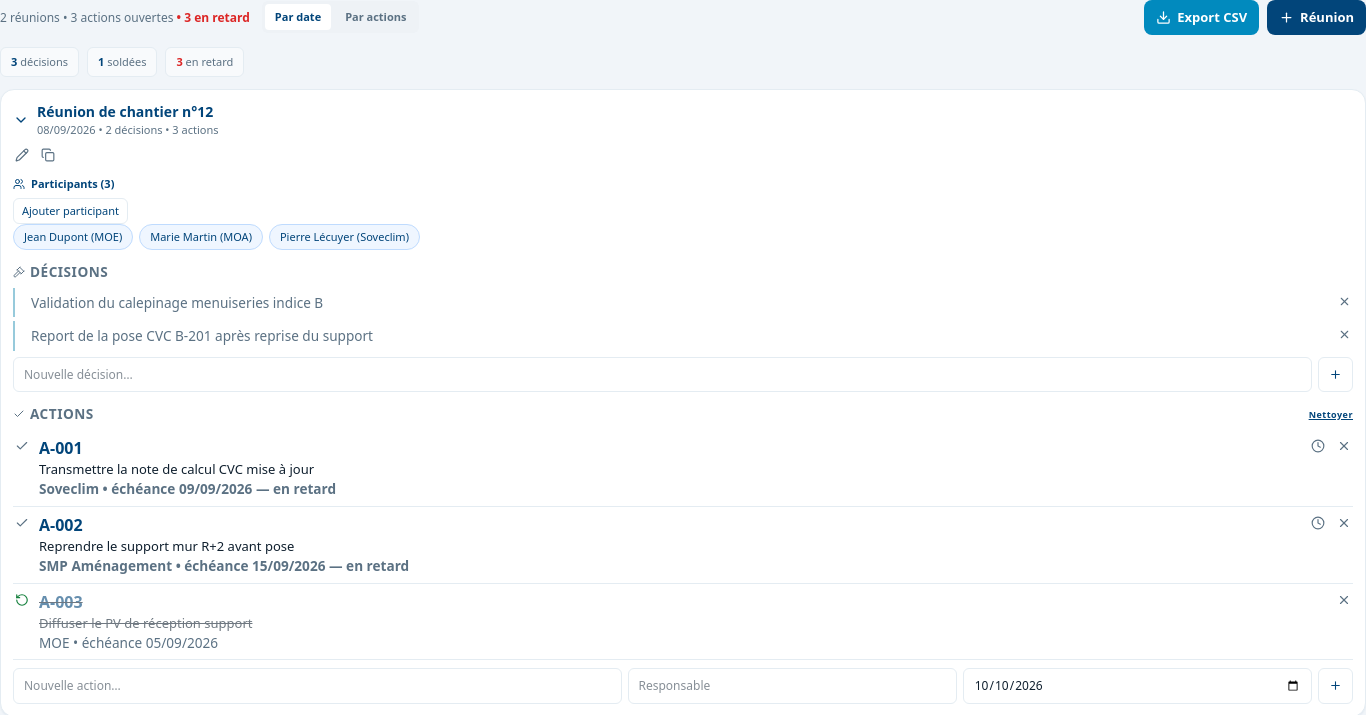
Test: <Meetings /> — câblage UI › crée une nouvelle réunion
The width and height of the screenshot is (1366, 715).
Click the button titled "Nouvelle réunion".
click(1317, 17)  # box [1267, 0, 1365, 35]
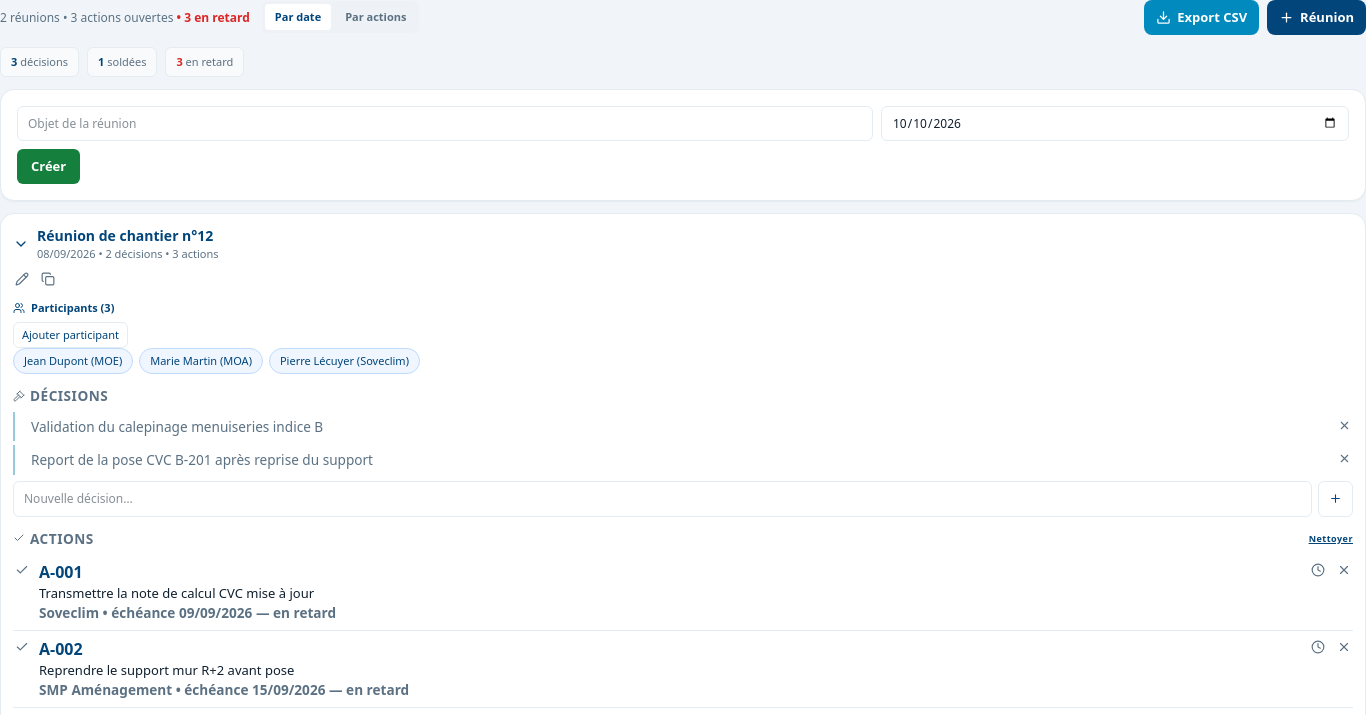
Type "Réunion n°13" into the field with placeholder "Objet de la réunion".
click(445, 124); type("Réunion n°13")  # box [17, 106, 873, 141]
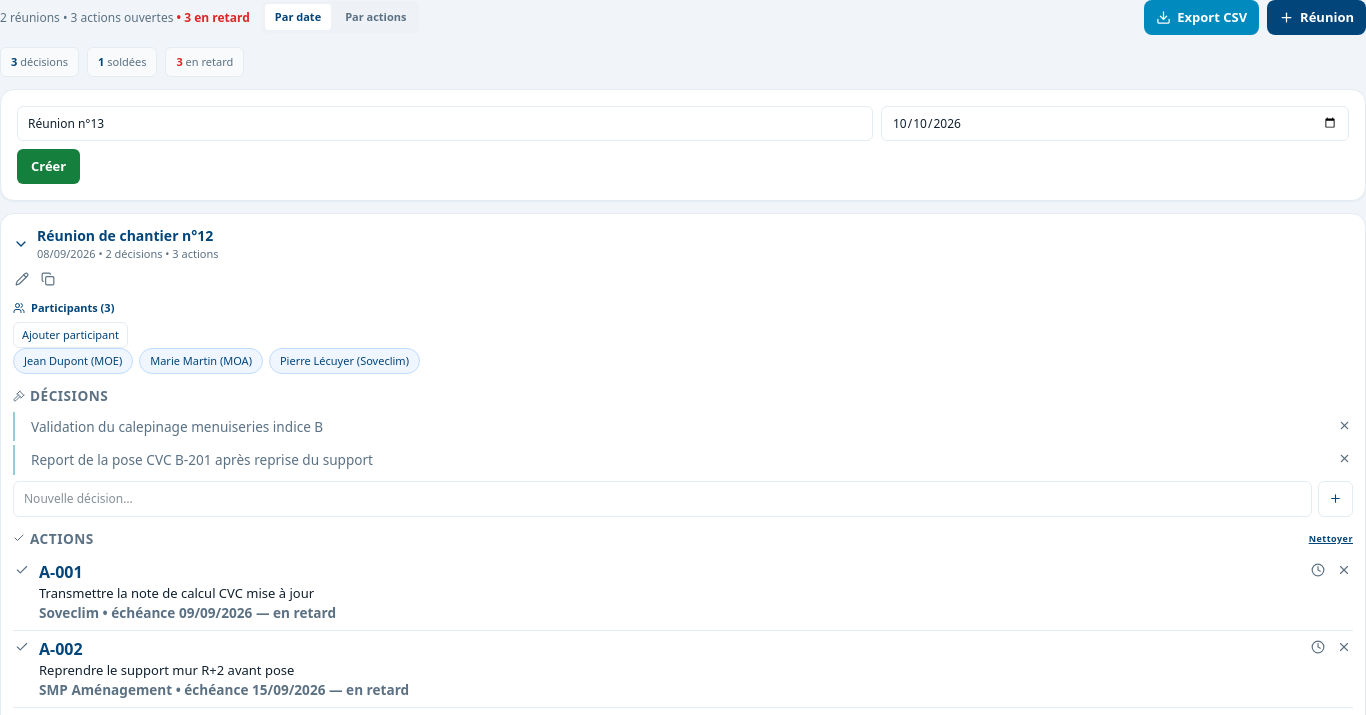
Click the button "Créer".
click(49, 167)  # box [17, 149, 80, 184]
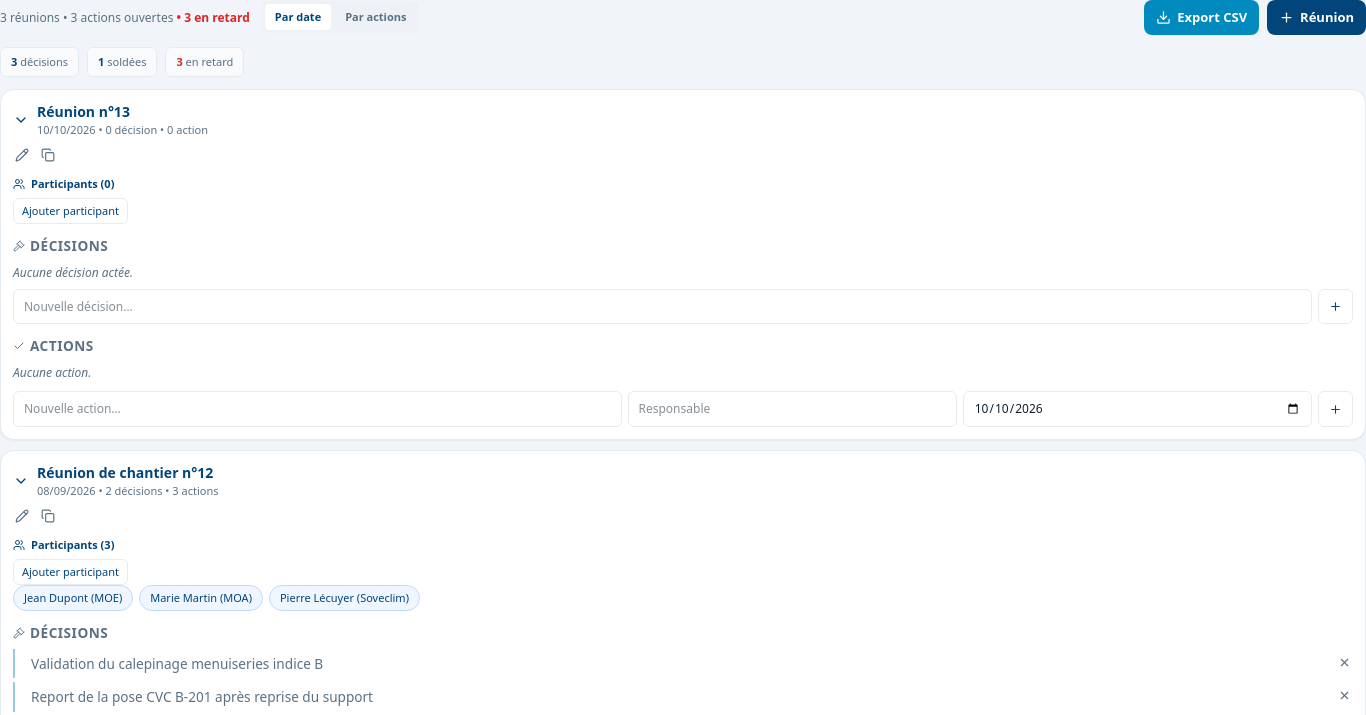
Expected: the text "Réunion n°13" is shown, [37, 102, 130, 121]
